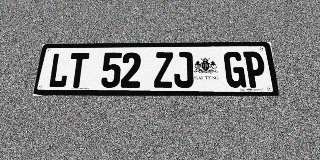2: (121, 52, 141, 88)
5: (101, 52, 122, 88)
G: (223, 52, 246, 88)
J: (174, 52, 194, 88)
L: (47, 53, 71, 88)
P: (243, 51, 267, 88)
T: (67, 53, 89, 88)
Z: (154, 52, 173, 88)
